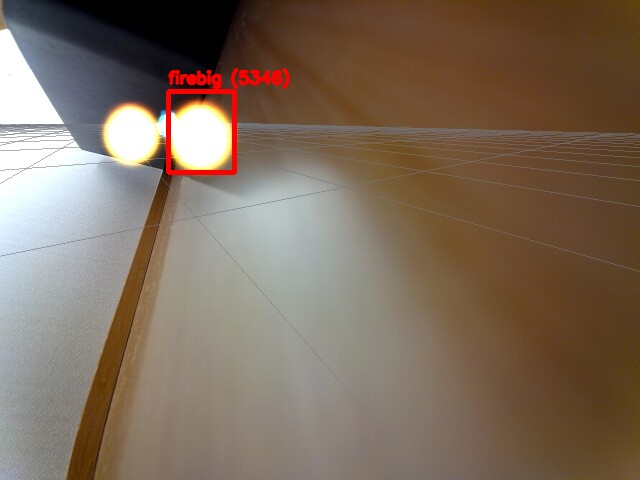firebig: (168, 91, 234, 172)
